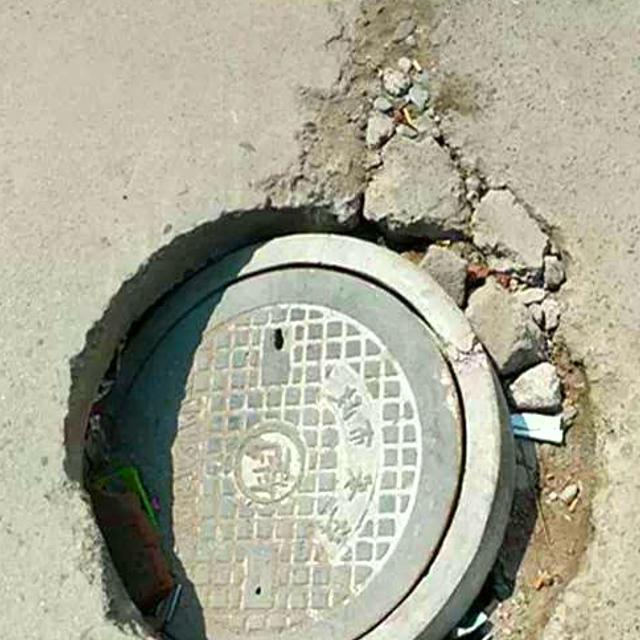circle: (66, 44, 587, 640)
